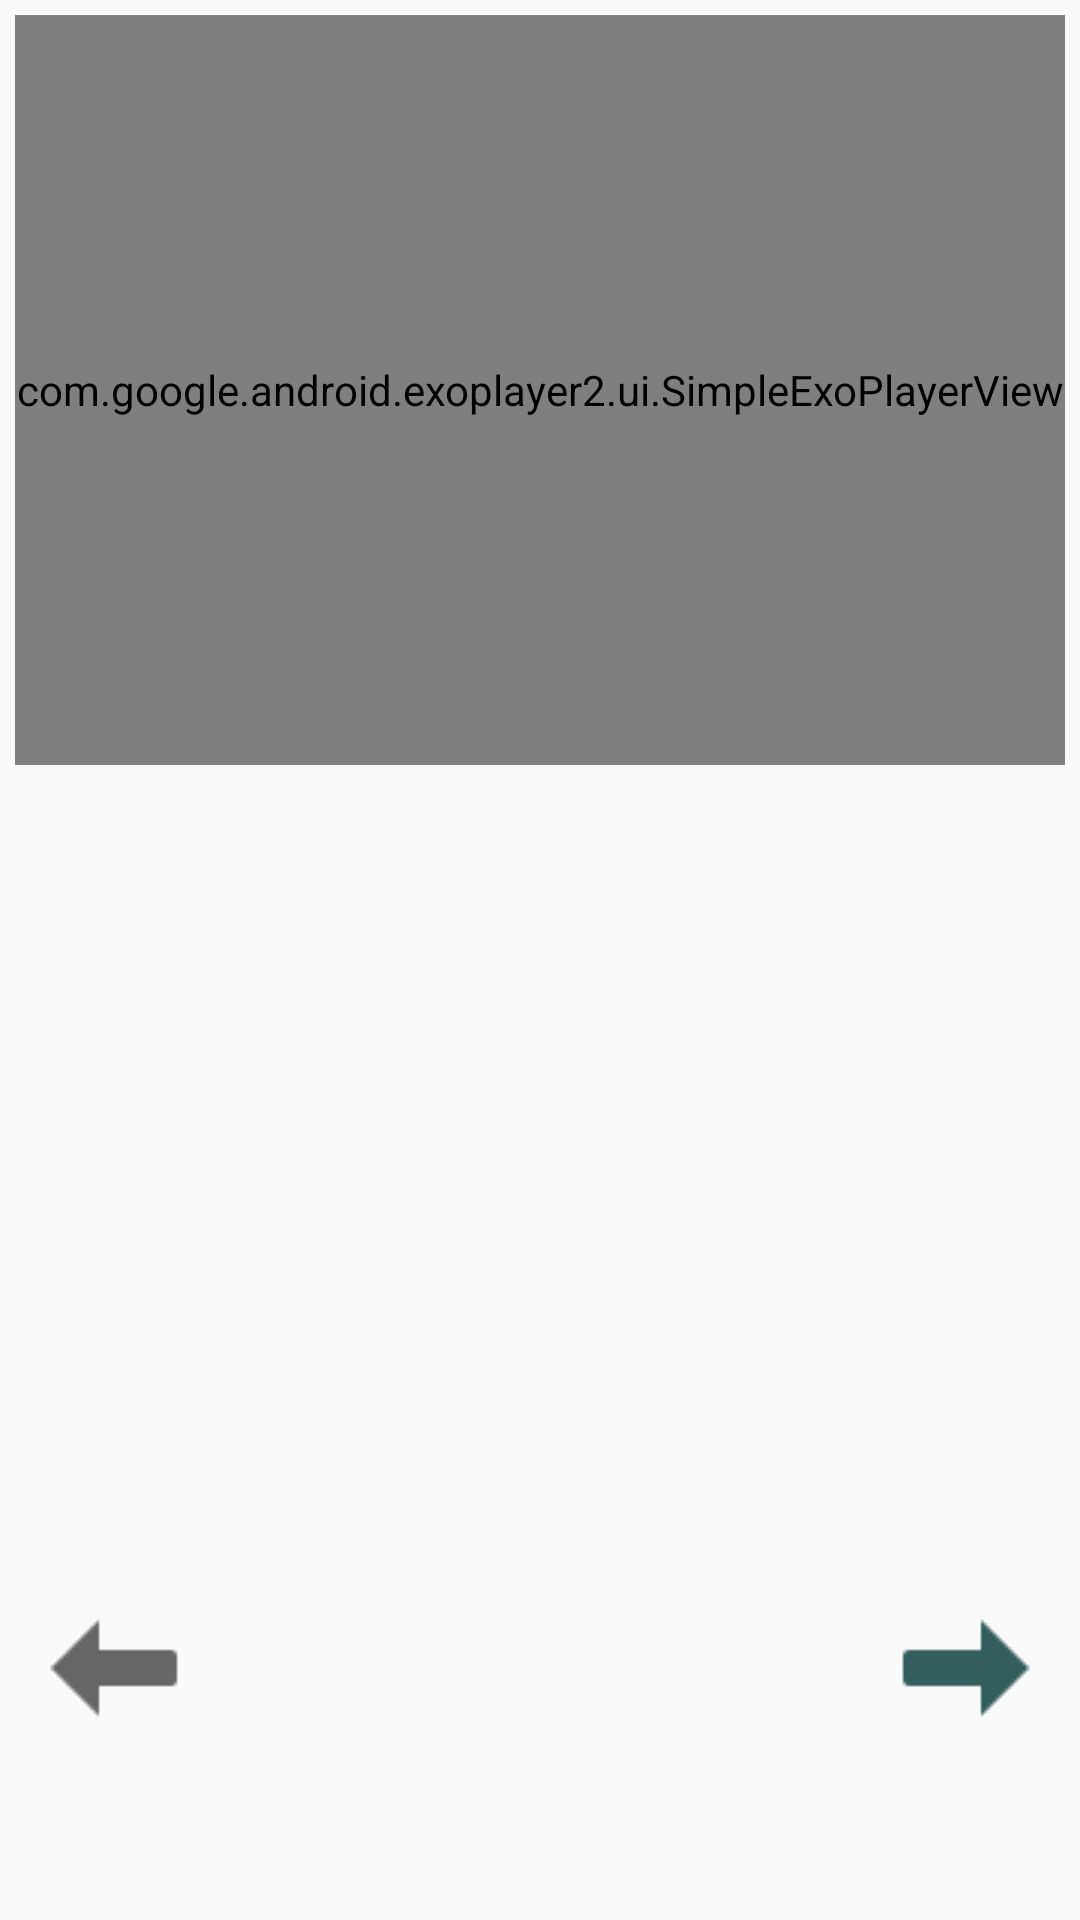

Where to tap for icons on this 1080 × 1920 app screen, as [x,y]:
back: [114,1668]
next: [966,1668]
